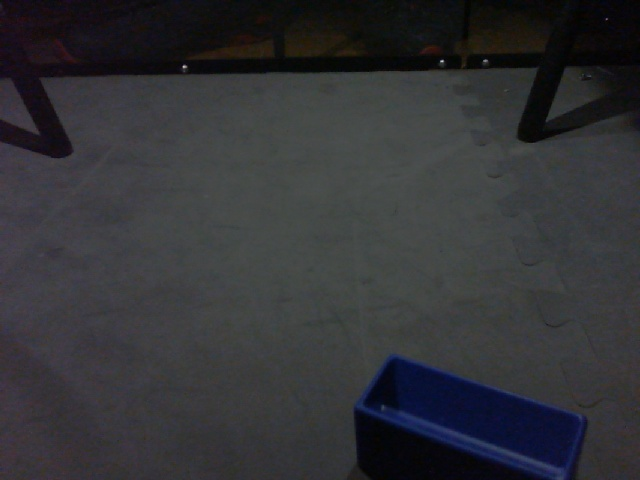BlueSample: (345, 348, 589, 480)
